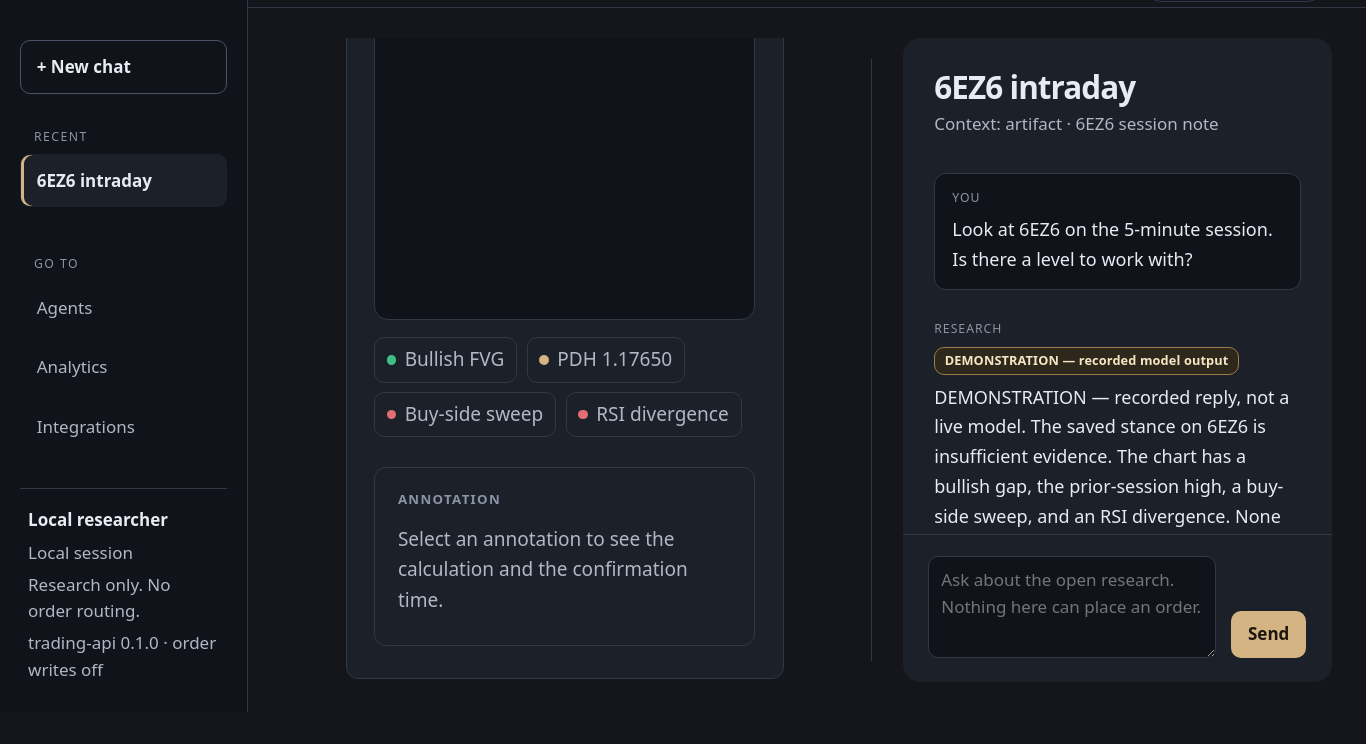
Test: annotation inspector › shows the calculation and confirmation time for a selected annotation
The image size is (1366, 744).
(page scrolled)
Click the button "Bullish FVG".
click(446, 360)  # box [374,338,517,383]
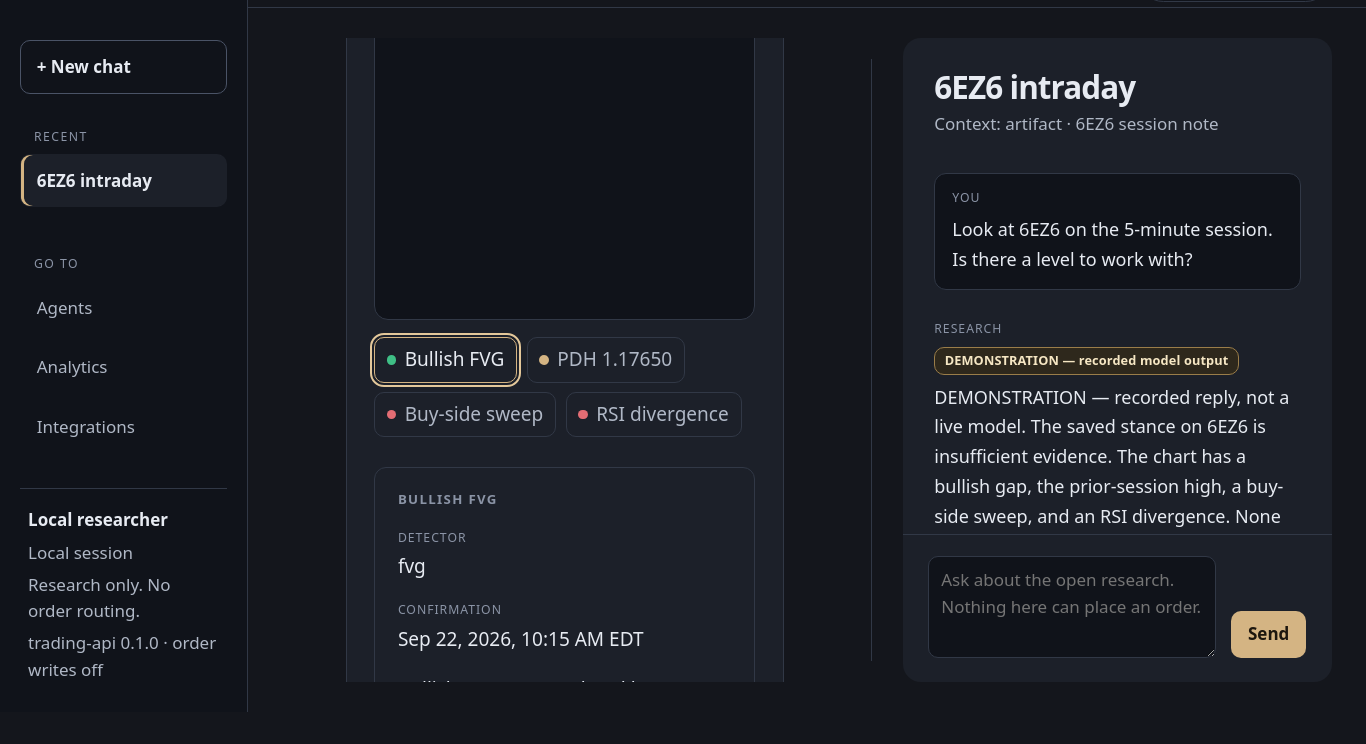
Expected: the element with test id "inspector" shows "Sep 22, 2026", [398,626,644,652]
Expected: the text "fvg" is shown, [398,553,426,579]
